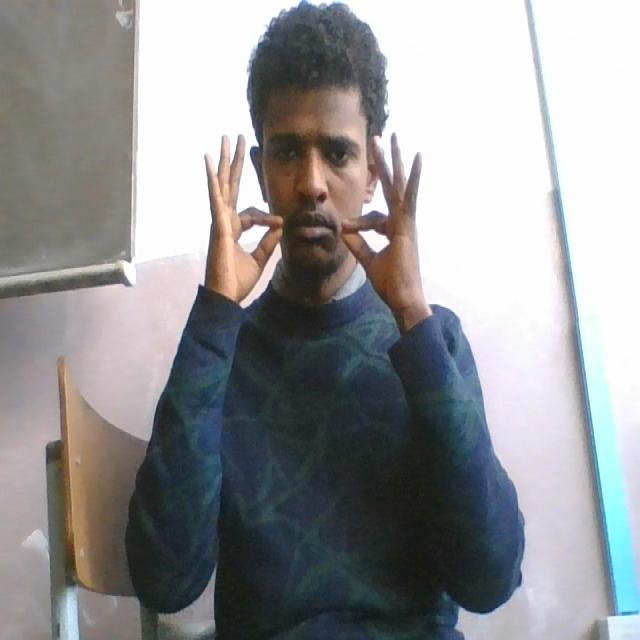dmet: (197, 126, 432, 318)
